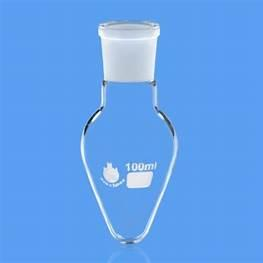Pear shaped flask: (74, 6, 181, 246)
